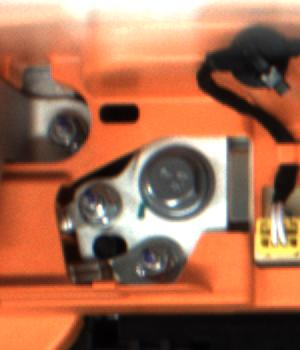nut_b: (132, 144, 224, 223)
screw_s: (79, 177, 114, 227), (136, 244, 176, 281), (49, 116, 77, 146)
